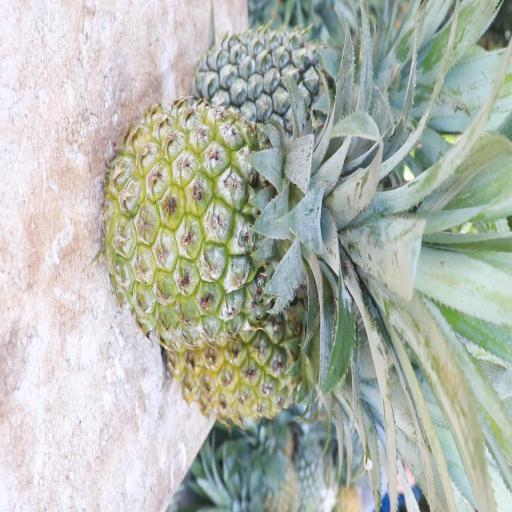------------------------------: (100, 103, 364, 353)
Pineapple - v8 v1: (160, 259, 390, 439)
